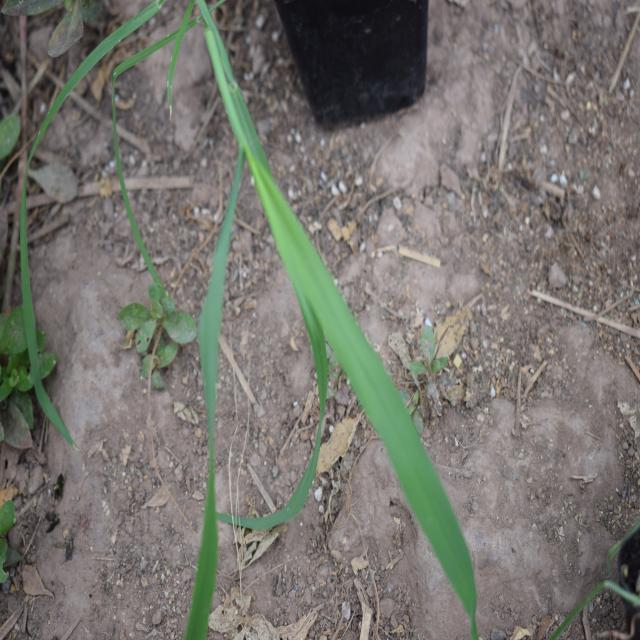crabgrass: (175, 126, 475, 620)
